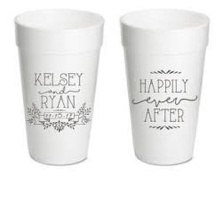paper_cup: (114, 0, 213, 168), (8, 2, 108, 168)
